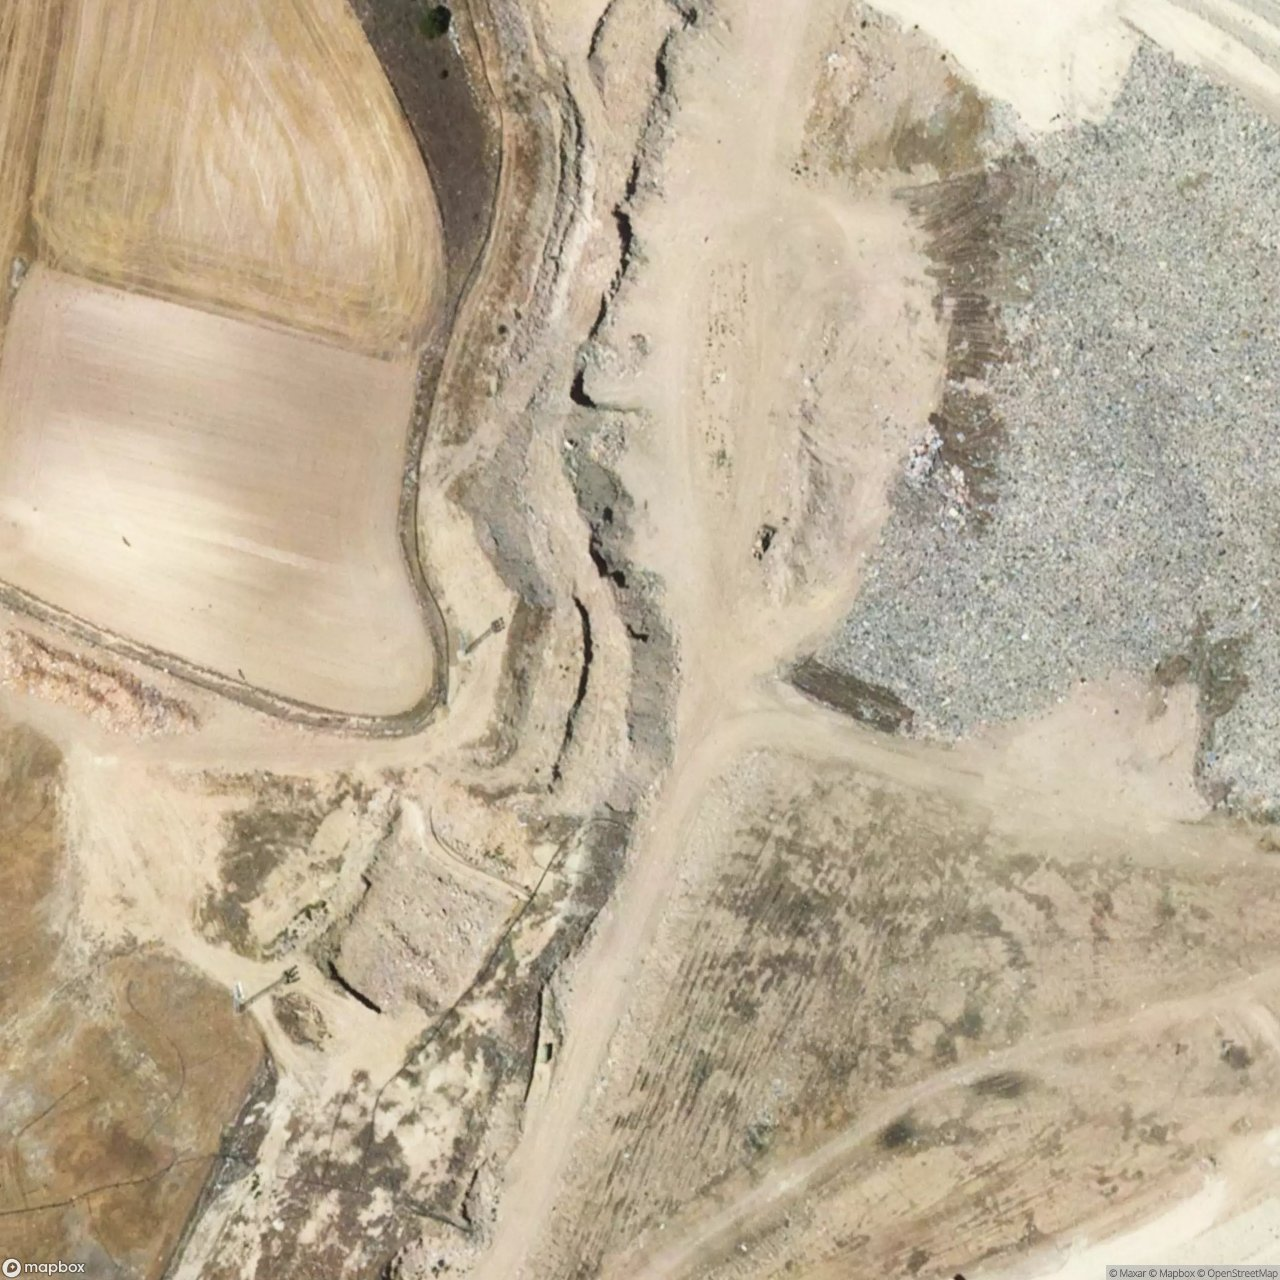dump_site: (869, 0, 1280, 775)
